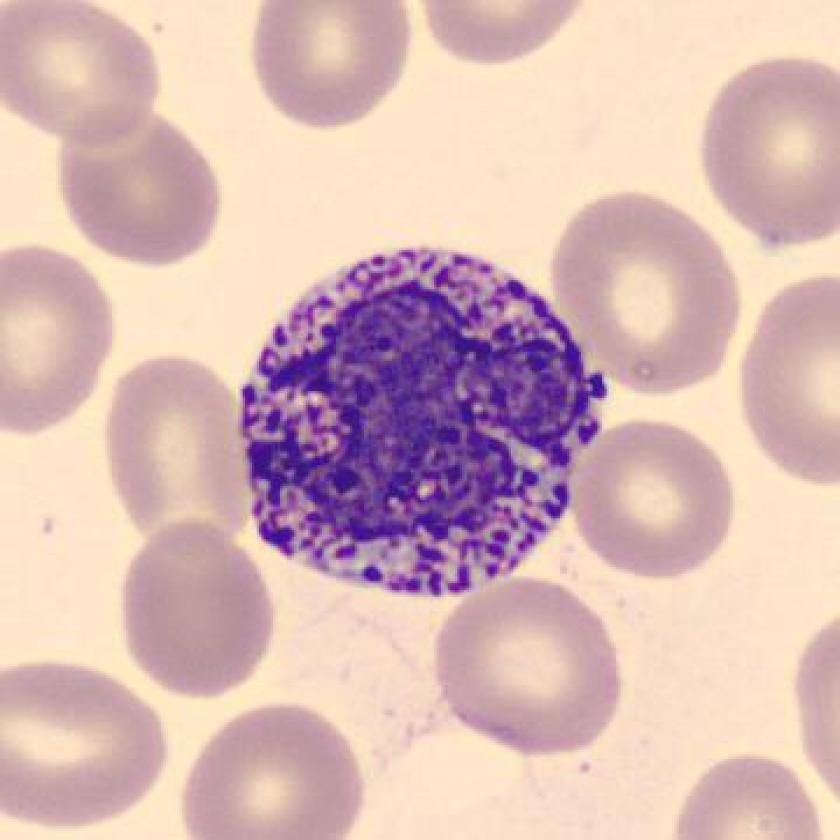basophil: (235, 234, 620, 605)
